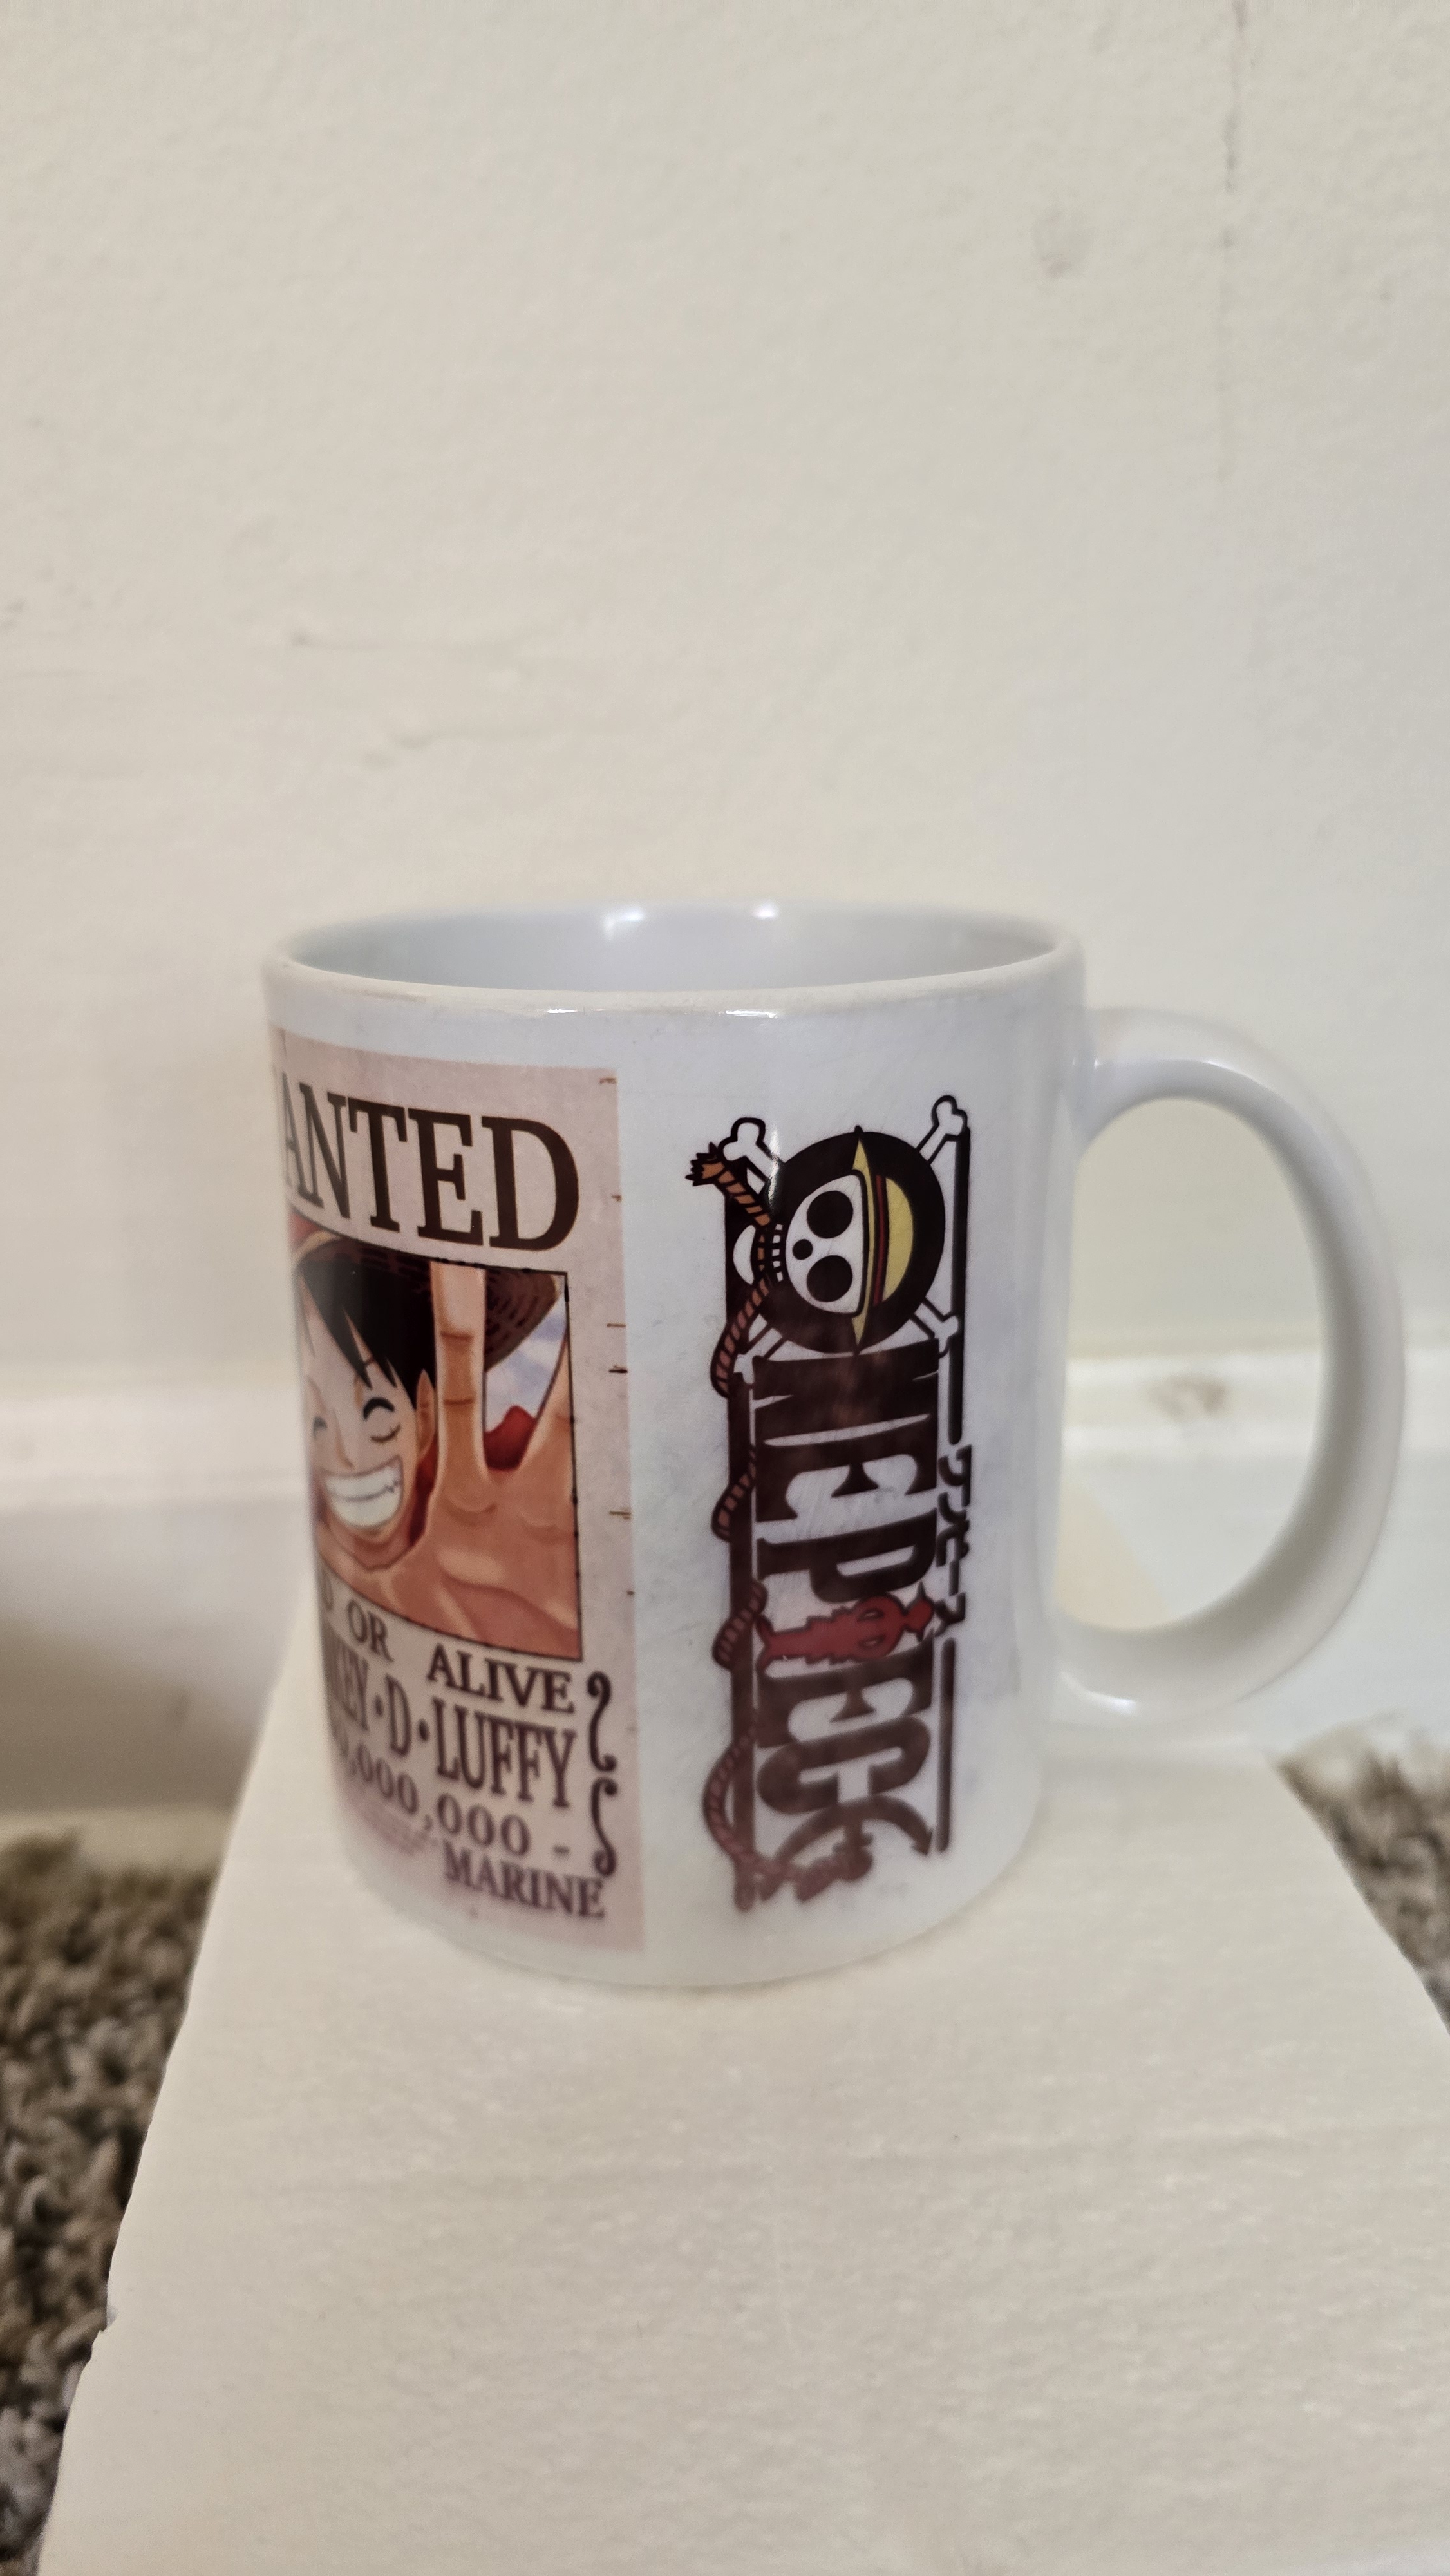mug: (180, 833, 1450, 2042)
